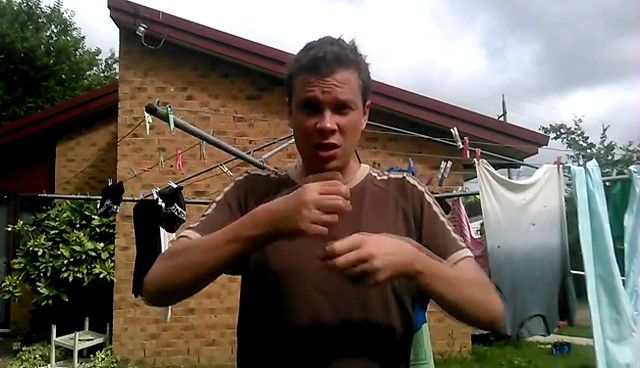G: (290, 170, 409, 306)
